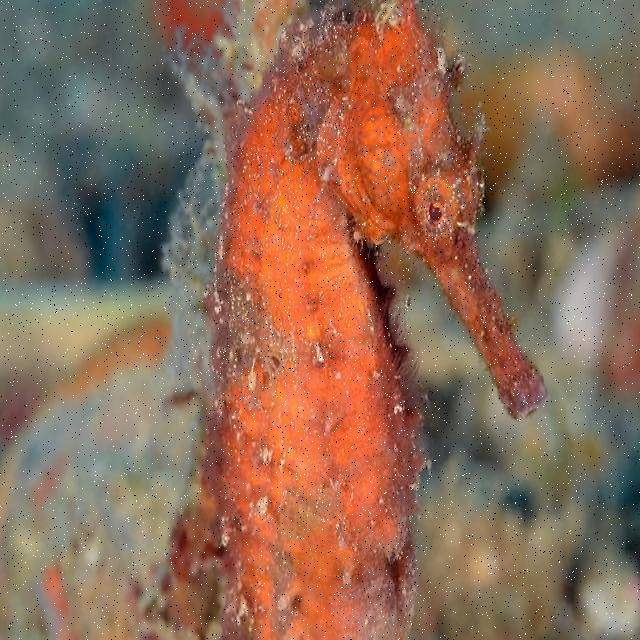fish: (207, 0, 547, 639)
